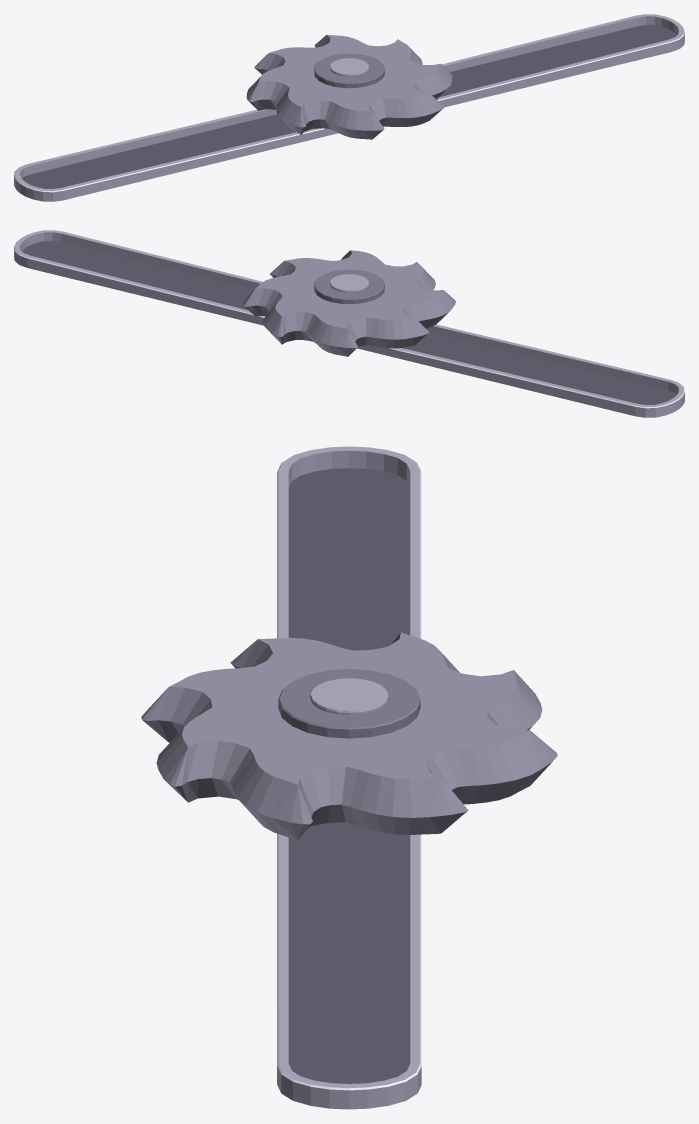
The model's file is Hurdle15.fbx.
The picture shows the model from 3 angles, top to bottom: view 1: azimuth 30°, elevation 25°; view 2: azimuth 150°, elevation 25°; view 3: azimuth 270°, elevation 25°; orthographic projection. The views are drawn at different scales.
Visible parts, largest first — view 1: Hurdle15; view 2: Hurdle15; view 3: Hurdle15.
Part boxes in pixels (left/top/right/bottom): Hurdle15: left=14, top=14, right=684, bottom=201; Hurdle15: left=14, top=230, right=684, bottom=417; Hurdle15: left=141, top=446, right=557, bottom=1109.
Size of the model in its own units: 5.5 by 0.3721 by 1.5.
1 material, 1 textured.
